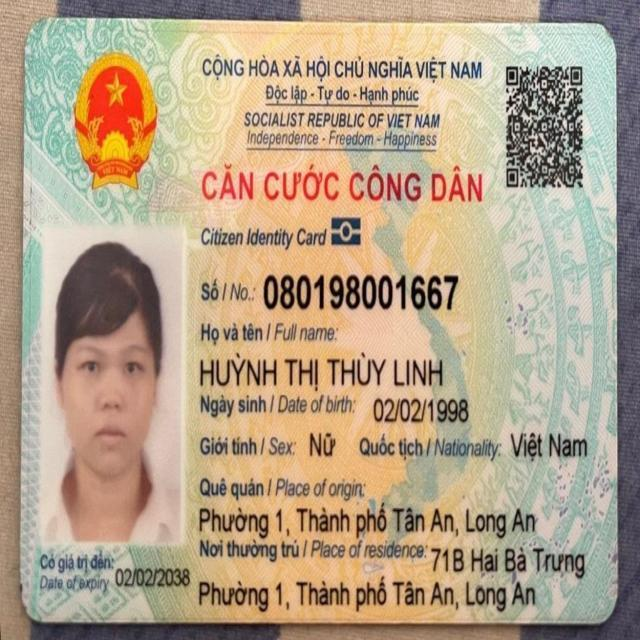current_place: (197, 569, 538, 618), (431, 536, 590, 579)
dob: (372, 395, 473, 426)
expire_date: (115, 561, 191, 593)
gender: (307, 425, 340, 460)
id: (260, 267, 460, 317)
name: (196, 349, 445, 390)
nationality: (508, 425, 591, 467)
origin_place: (198, 498, 535, 542)
